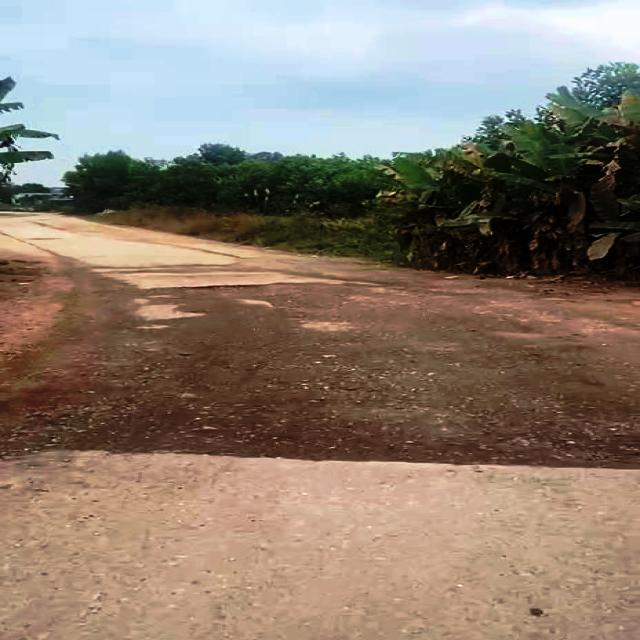pothole: (0, 396, 130, 451), (546, 432, 640, 474), (149, 282, 273, 298)
